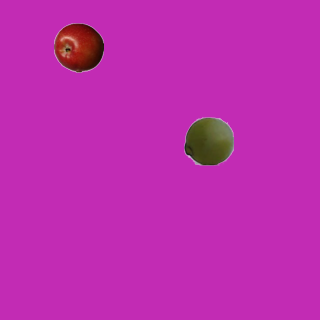Apple Braeburn: (53, 22, 103, 72)
Grape White 4: (183, 115, 233, 165)
